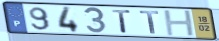3: (83, 6, 108, 35)
4: (57, 5, 82, 34)
9: (28, 6, 53, 32)
H: (162, 10, 197, 37)
T: (138, 10, 161, 35), (111, 9, 132, 34)
